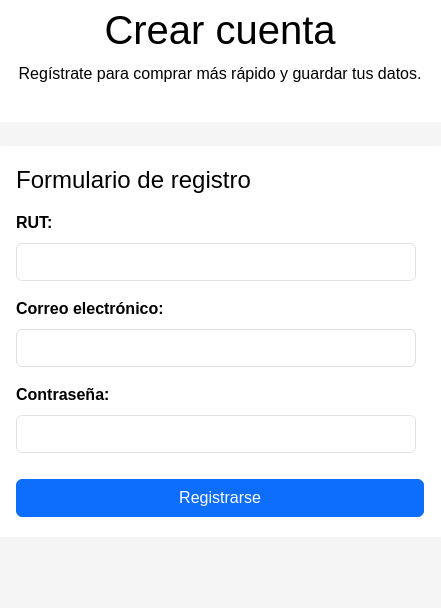
Pruebas de Validación en el Formulario de Registro › debe rechazar un RUT inválido (intento de romper validación por longitud)
The image size is (441, 608).
Ingresamos un RUT demasiado corto (ej: "123")
Type "123" into the field labelled "RUT:". click: [216, 262]
box: [16,243,416,281]
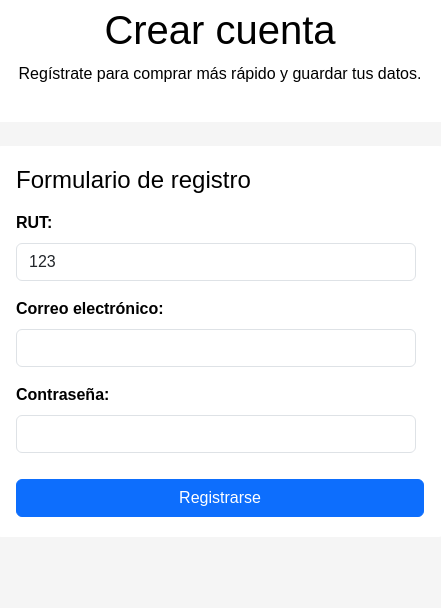
Click the button "Registrarse". click: [220, 498]
box: [16,479,424,517]
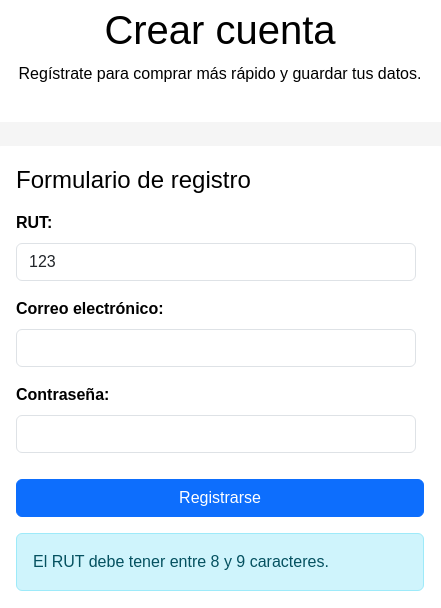
Result: the text "El RUT debe tener entre 8 y 9 caracteres." is shown at [16,533,424,591]
